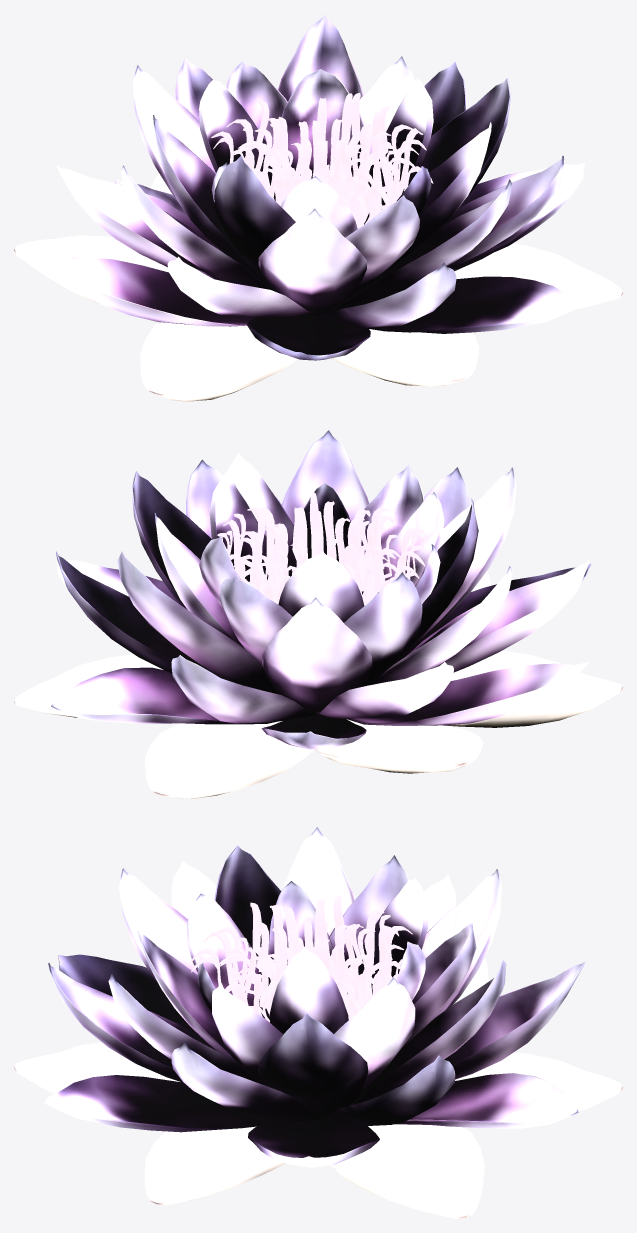
The model's file is siam.gltf.
3 views of the same model, one above another, from view 1: azimuth 30°, elevation 25°; view 2: azimuth 150°, elevation 25°; view 3: azimuth 270°, elevation 25° (orthographic).
Visible parts, largest first — view 1: siam3; view 2: siam3; view 3: siam3.
Part boxes in pixels (box(x1,y1,x2,y2)): siam3: box(14, 14, 622, 401); siam3: box(14, 430, 622, 798); siam3: box(14, 827, 622, 1218).
Bounding box in the file's own units: 0.1974 × 0.0775 × 0.1932.
1 material, 1 textured.
